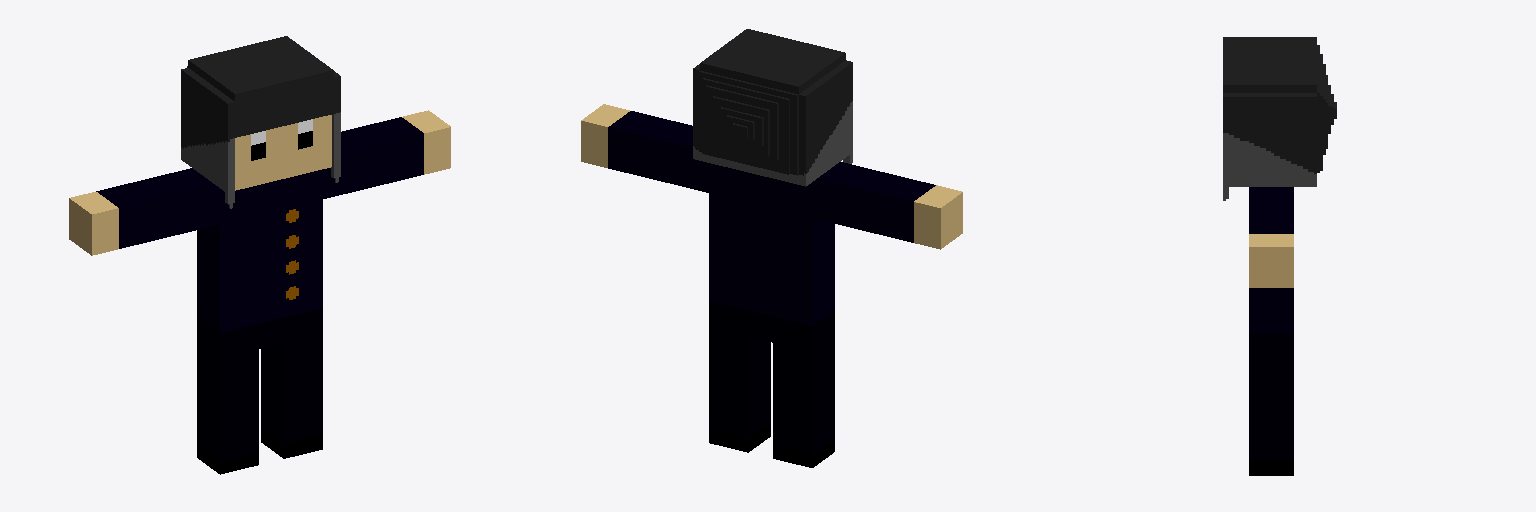
3 views of the same model, side by side, from view 1: azimuth 30°, elevation 25°; view 2: azimuth 150°, elevation 25°; view 3: azimuth 270°, elevation 25° (orthographic).
Parts seen in each view (by area): view 1: object 1; view 2: object 1; view 3: object 1.
Part boxes in pixels (x1,y1,x2,y2): object 1: (69,36,450,474); object 1: (581,29,962,467); object 1: (1223,37,1336,475).
Size of the model in its own units: 14.6 by 15.1 by 4.
Materials: 1 (1 with a texture image).